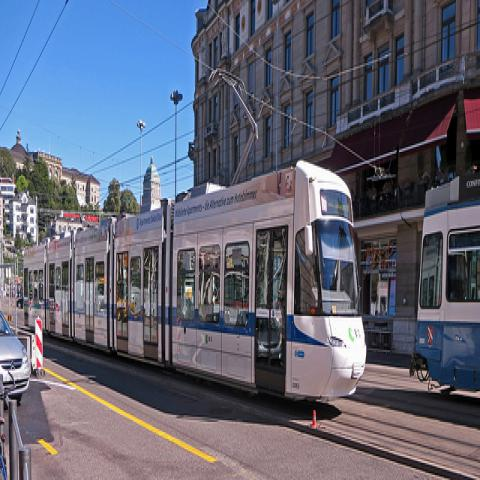car: (0, 308, 32, 410)
